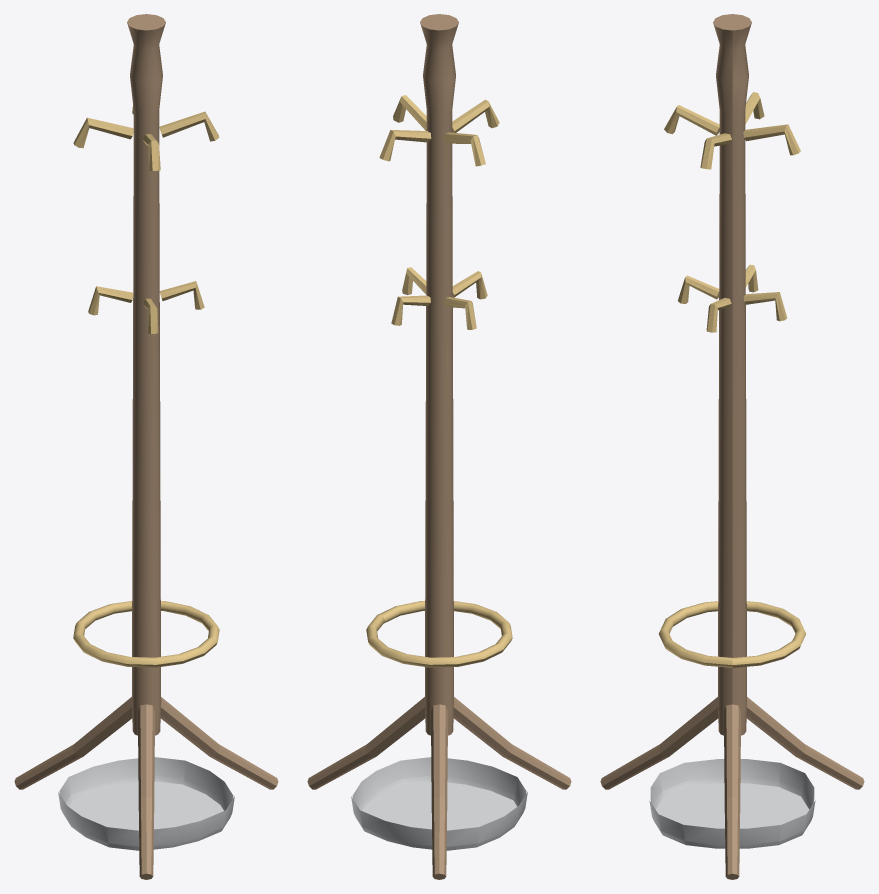
File: restaurant-kitchen-and-dining-coat-stand-b610abaa__16526.glb
3 renders of one model, left to right at view 1: azimuth 30°, elevation 25°; view 2: azimuth 150°, elevation 25°; view 3: azimuth 270°, elevation 25°, orthographic.
Visible parts, largest first — view 1: coat-stand; view 2: coat-stand; view 3: coat-stand.
Boxes of the visible parts, x1,y1,x2,y2 form: coat-stand: [14, 14, 278, 879]; coat-stand: [307, 14, 571, 879]; coat-stand: [600, 14, 864, 879].
Size of the model in its own units: 0.4786 by 1.8 by 0.5399.
